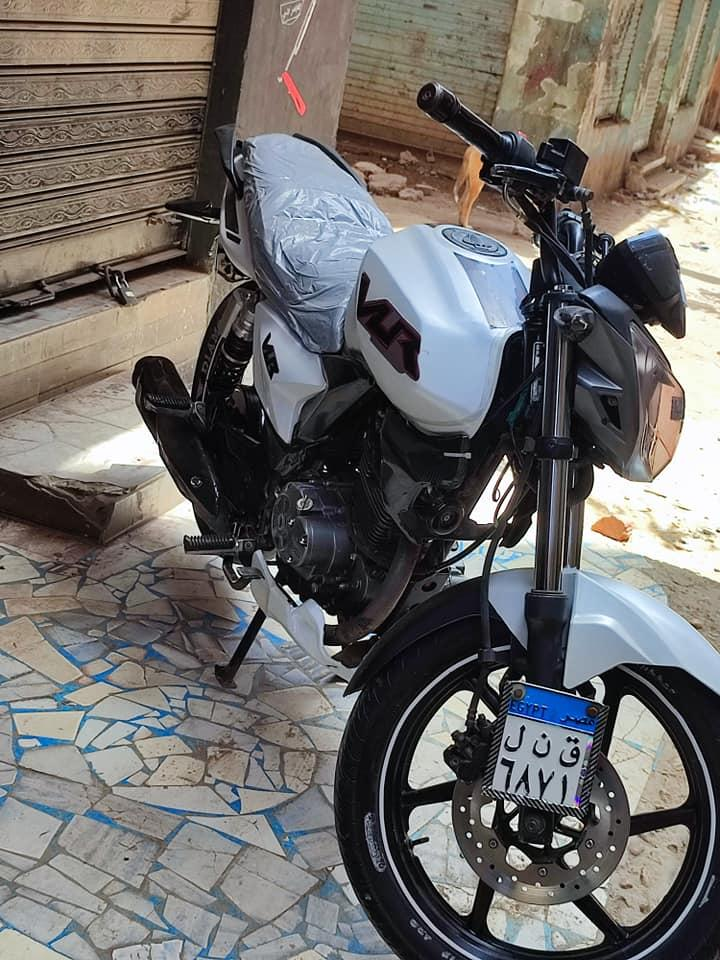License Plate: (489, 678, 607, 816)
